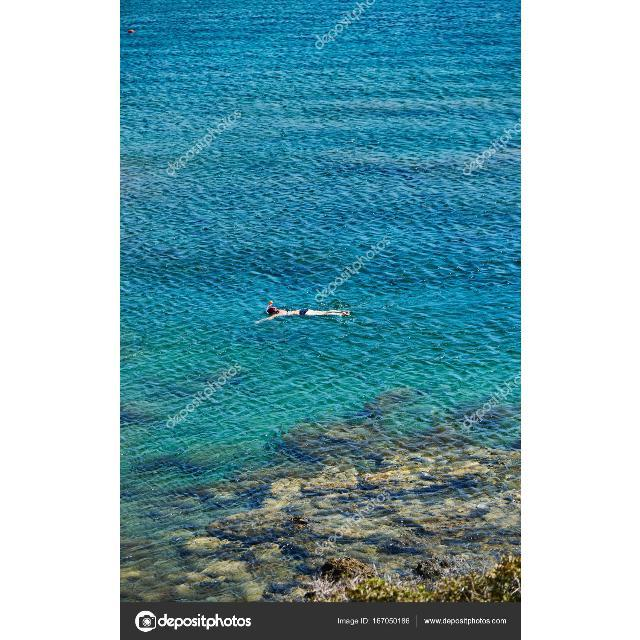human: (263, 296, 350, 322)
